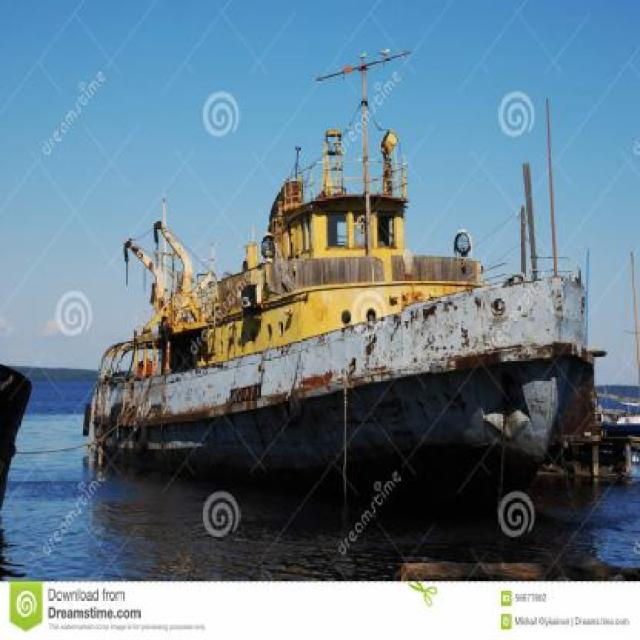corrosion: (92, 177, 600, 517)
